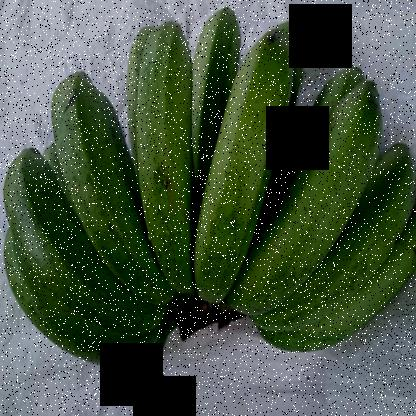unripe: (230, 66, 384, 334), (45, 64, 170, 320), (190, 23, 298, 306), (3, 156, 158, 350), (128, 18, 198, 296)
